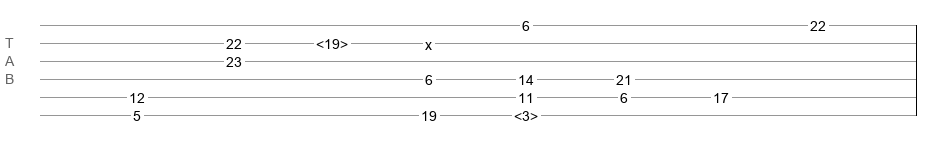11: (518, 90, 534, 100)
12: (129, 90, 145, 100)
14: (518, 72, 534, 82)
17: (713, 90, 729, 100)
19: (421, 108, 437, 118)
21: (616, 72, 632, 82)
22: (226, 36, 242, 46), (810, 18, 826, 28)
23: (226, 54, 242, 64)
5: (133, 108, 141, 118)
6: (425, 72, 433, 82), (522, 18, 530, 28), (620, 90, 628, 100)
harmonic: (316, 36, 348, 46), (514, 108, 538, 118)
x: (425, 37, 432, 45)
